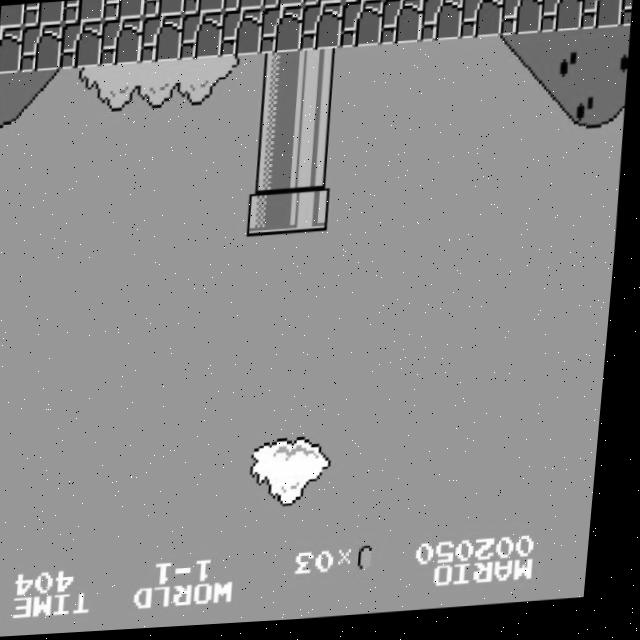11- little_mario: (324, 212, 371, 264)
14- pipe: (295, 97, 340, 146), (297, 52, 342, 101), (255, 100, 300, 149), (257, 54, 302, 103), (292, 144, 337, 192), (252, 146, 297, 194)
15- pipe_head: (290, 189, 335, 238), (250, 191, 295, 240)
17- undestructible_block: (379, 1, 425, 50), (339, 3, 385, 52), (19, 24, 65, 73), (299, 6, 344, 55), (259, 8, 304, 57), (219, 11, 264, 60), (179, 13, 224, 62), (139, 16, 184, 65), (99, 19, 144, 68), (59, 21, 104, 70), (419, 0, 465, 47), (459, 0, 505, 44), (499, 0, 545, 42), (539, 0, 585, 39), (580, 0, 625, 37), (0, 26, 24, 74), (22, 1, 65, 27), (62, 0, 105, 25), (102, 0, 145, 22), (142, 0, 185, 19), (182, 0, 225, 17), (222, 0, 265, 15), (0, 4, 24, 29), (262, 0, 305, 12), (620, 0, 634, 34), (302, 0, 345, 9), (342, 0, 385, 6), (382, 0, 425, 4), (423, 0, 465, 1)
